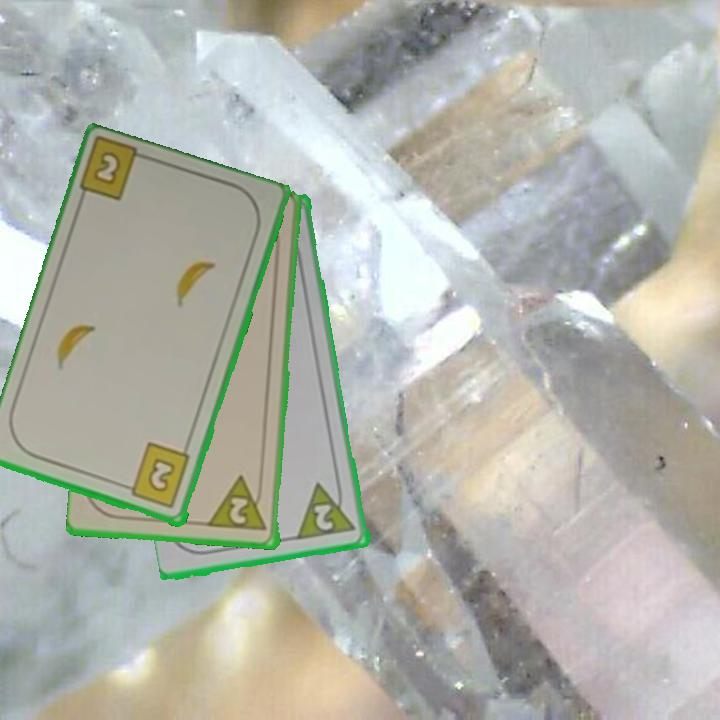2b: (119, 440, 193, 512), (89, 148, 124, 189)
2p: (295, 477, 360, 543), (207, 473, 270, 534)
